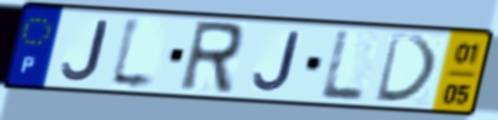D: (373, 31, 442, 105)
J: (250, 29, 303, 94), (59, 18, 111, 83)
L: (105, 13, 160, 95), (316, 29, 367, 103)
R: (175, 19, 247, 97)
